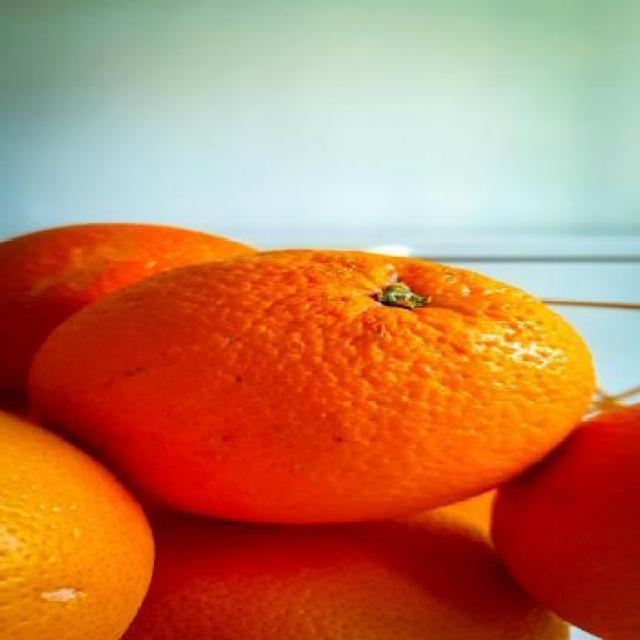Jeruk Sudah Matang: (46, 247, 586, 521), (93, 487, 598, 640), (0, 221, 295, 418), (0, 403, 152, 638), (500, 401, 640, 640)
